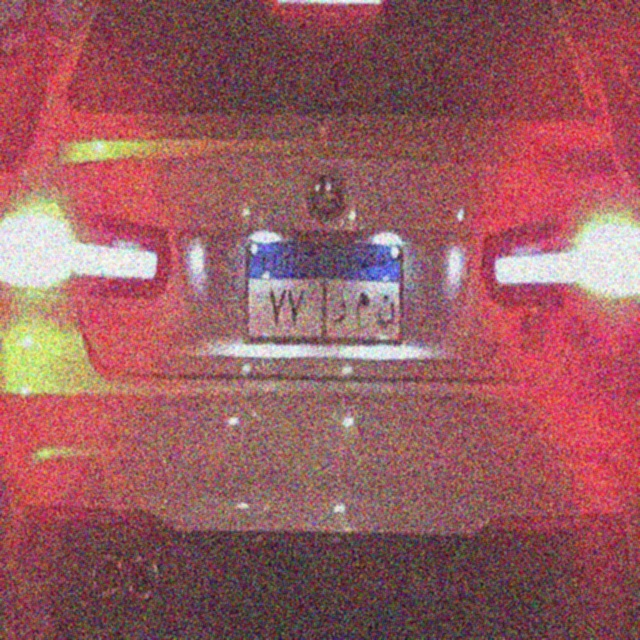License Plate: (245, 238, 404, 345)
